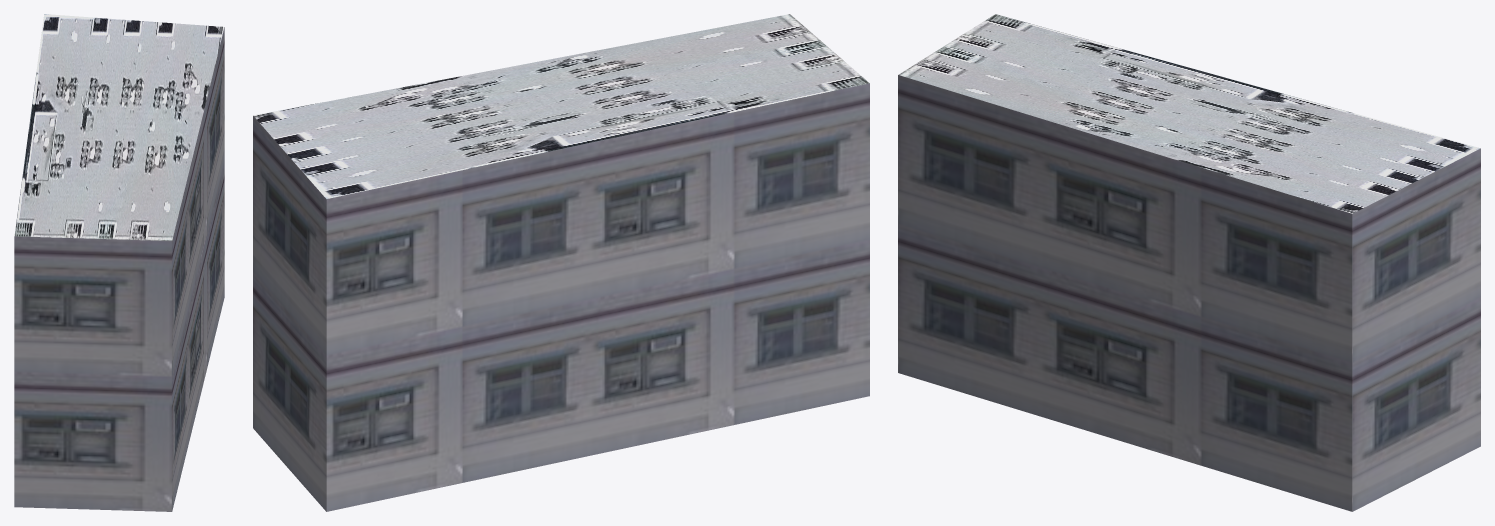
The model's file is ResTex__5064.fbx.
3 views of the same model, side by side, from view 1: azimuth 30°, elevation 25°; view 2: azimuth 150°, elevation 25°; view 3: azimuth 270°, elevation 25° (orthographic). The views are drawn at different scales.
Visible parts, largest first — view 1: CityEngineMaterial_1_m, CityEngineMaterial_m; view 2: CityEngineMaterial_1_m, CityEngineMaterial_m; view 3: CityEngineMaterial_1_m, CityEngineMaterial_m.
Part boxes in pixels (left/top/right/bottom): CityEngineMaterial_1_m: left=14, top=27, right=224, bottom=511; CityEngineMaterial_m: left=14, top=14, right=224, bottom=240; CityEngineMaterial_1_m: left=253, top=83, right=869, bottom=511; CityEngineMaterial_m: left=253, top=14, right=869, bottom=198; CityEngineMaterial_1_m: left=898, top=75, right=1480, bottom=511; CityEngineMaterial_m: left=898, top=14, right=1480, bottom=213.
Size of the model in its own units: 8.63 by 6 by 10.63.
2 materials, 2 textured.
